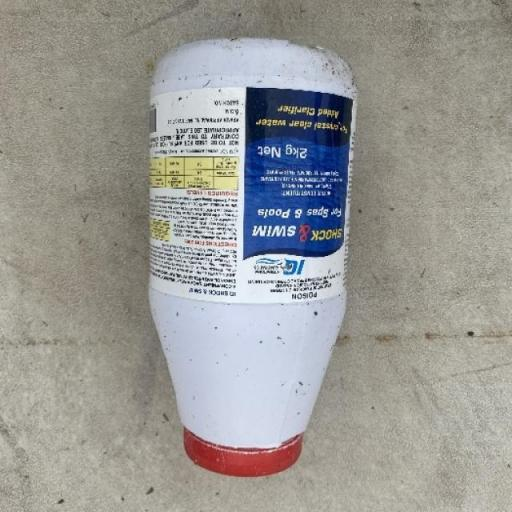plastic: (146, 36, 356, 477)
